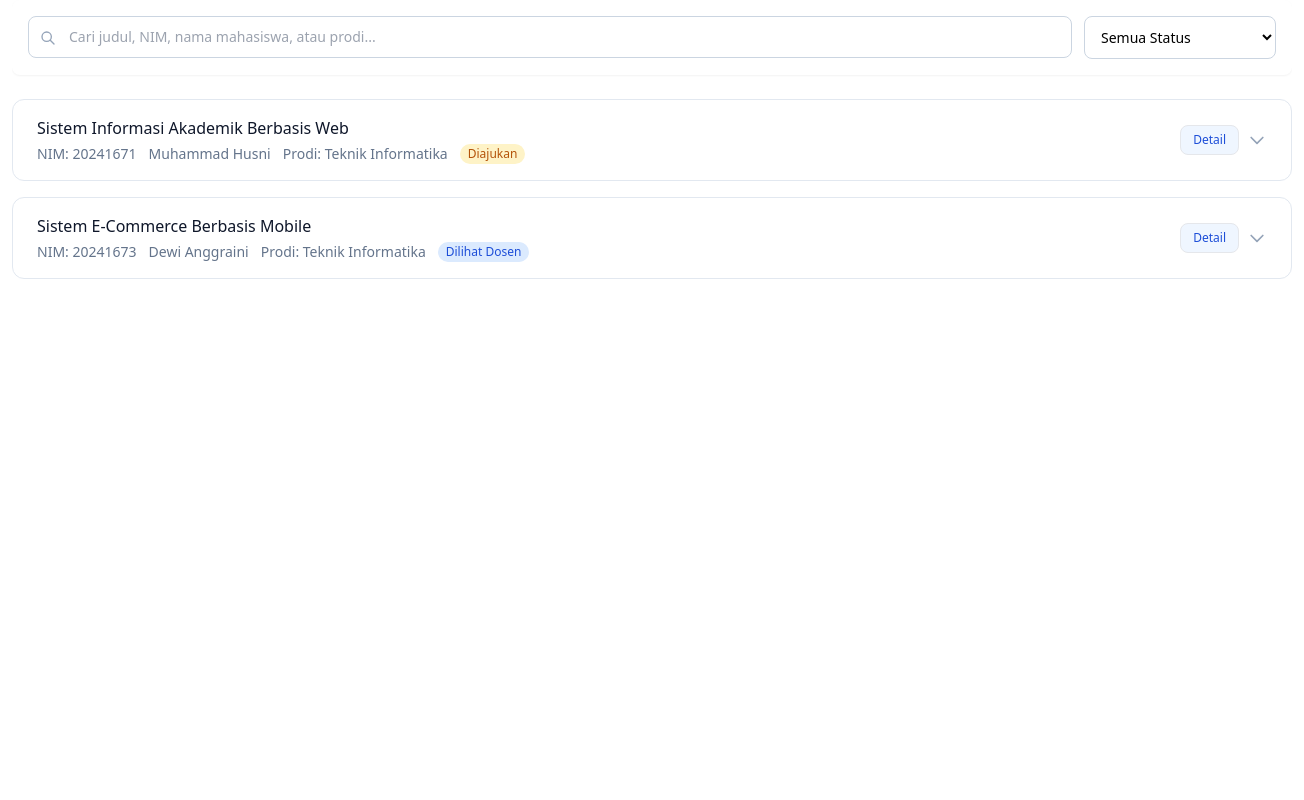
DosenProposalReview › buka detail (expand) → aksi Setujui/Tolak DI ATAS grid lampiran + riwayat
// Buka detail dengan klik header card
Click the heading "Sistem Informasi Akademik Berbasis Web".
click(193, 128)  # box [37,117,349,139]
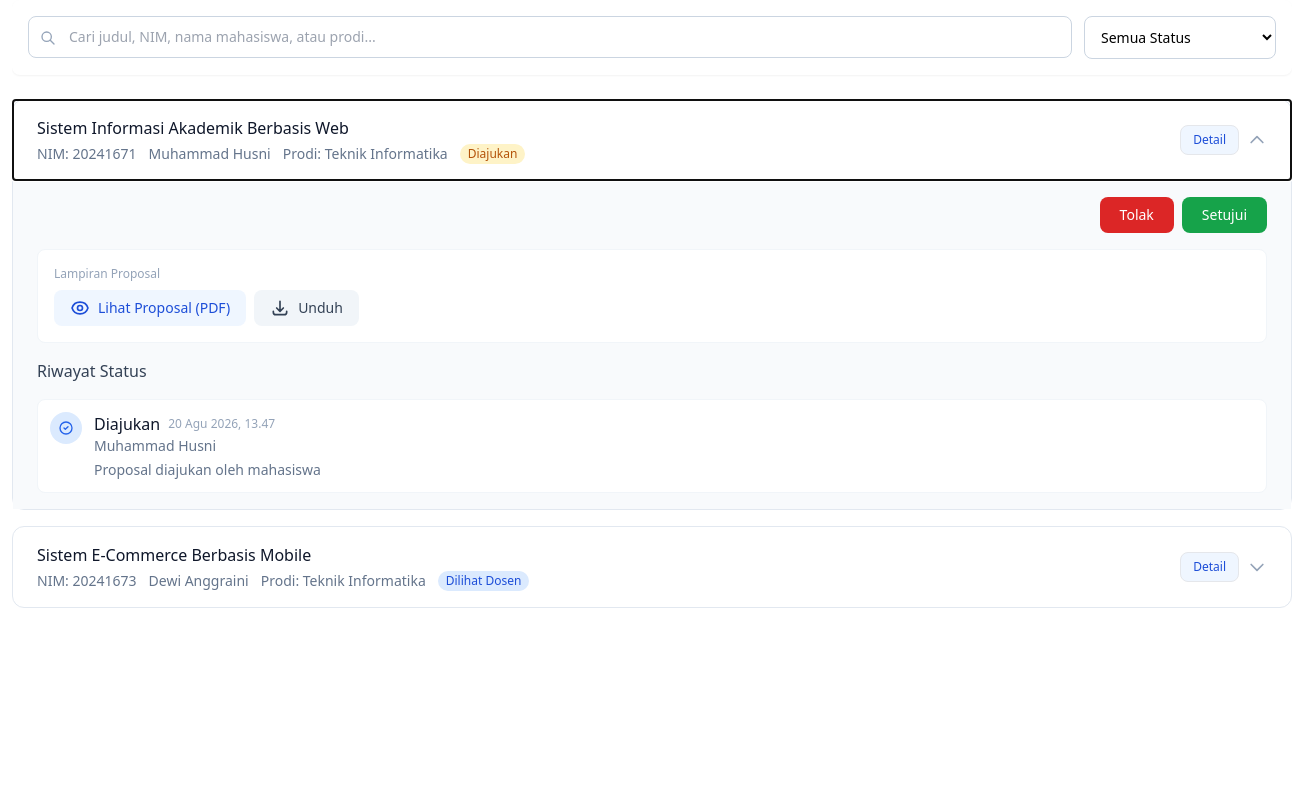
Expected: the button "Lihat Proposal (PDF)" is shown, [54,290,246,326]
Expected: the heading "Riwayat Status" is shown, [37,360,147,382]
Expected: the text "Proposal diajukan oleh mahasiswa" is shown, [94,460,321,479]
